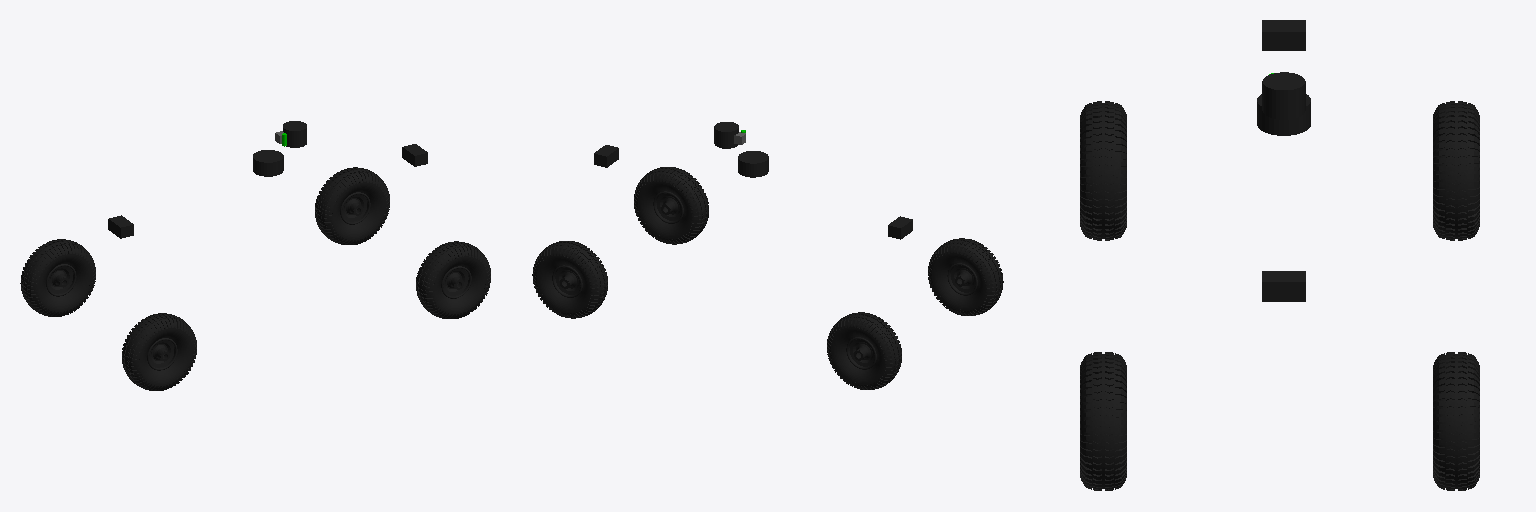
robot.urdf — teknofest_ika:
<?xml version="1.0"?>
<robot name="teknofest_ika">

  <material name="sari"><color rgba="1.0 0.76 0.03 1"/></material>
  <material name="siyah"><color rgba="0.15 0.15 0.15 1"/></material>
  <material name="blue"><color rgba="0.0 0.0 0.8 1"/></material>
  <material name="gri"><color rgba="0.4 0.4 0.4 1"/></material>
  <material name="yesil"><color rgba="0.0 0.8 0.0 1"/></material>

  <link name="base_footprint"/>

  <joint name="base_joint" type="fixed">
    <parent link="base_footprint"/>
    <child link="base_link"/>
    <origin xyz="0 0 0.28" rpy="0 0 0"/>
    <!--
      Z=0.28: tekerlek yarıçapı (0.18) + zemin boşluğu (0.10)
      Böylece tekerlekler tam yere oturur.
    -->
  </joint>

  <link name="base_link">
    <visual>
      <origin xyz="0 0 0" rpy="1.5708 0 0"/>
      <geometry>
        <mesh filename="package://teknofest_ika/meshes/govde.stl" scale="0.001 0.001 0.001"/>
      </geometry>
      <material name="blue"/>
    </visual>
    <collision>
      <origin xyz="0 0 0.05" rpy="0 0 0"/>
      <geometry>
        <box size="1.0 0.5 0.3"/>
      </geometry>
    </collision>
    <inertial>
      <mass value="70.0"/>
      <origin xyz="0 0 0" rpy="0 0 0"/>
      <inertia ixx="10.0" ixy="0" ixz="0" iyy="20.0" iyz="0" izz="30.0"/>
    </inertial>
  </link>

  <!-- ═══════════════════════════════════════════════
       SAĞ ÖN TEKERLEK
  ════════════════════════════════════════════════ -->
  <link name="sag_on_teker">
    <visual>
      <origin xyz="0 0 0" rpy="0 0 1.5708"/>
      <geometry>
        <mesh filename="package://teknofest_ika/meshes/tekerlek.stl" scale="0.001 0.001 0.001"/>
      </geometry>
      <material name="siyah"/>
    </visual>
    <collision>
      <origin xyz="0 0 0" rpy="1.5708 0 0"/>
      <geometry>
        <cylinder length="0.15" radius="0.18"/>
      </geometry>
    </collision>
    <inertial>
      <mass value="7.5"/>
      <origin xyz="0 0 0" rpy="1.5708 0 0"/>
      <inertia ixx="0.0563" ixy="0" ixz="0" iyy="0.0563" iyz="0" izz="0.1013"/>
    </inertial>
  </link>
  <joint name="sag_on_joint" type="continuous">
    <parent link="base_link"/>
    <child link="sag_on_teker"/>
    <origin xyz="0.50 -0.335 -0.10" rpy="0 0 0"/>
    <axis xyz="0 -1 0"/>
    <dynamics damping="0.5" friction="0.5"/>
  </joint>

  <!-- ═══════════════════════════════════════════════
       SOL ÖN TEKERLEK
  ════════════════════════════════════════════════ -->
  <link name="sol_on_teker">
    <visual>
      <origin xyz="0 0 0" rpy="0 0 -1.5708"/>
      <geometry>
        <mesh filename="package://teknofest_ika/meshes/tekerlek.stl" scale="0.001 0.001 0.001"/>
      </geometry>
      <material name="siyah"/>
    </visual>
    <collision>
      <origin xyz="0 0 0" rpy="1.5708 0 0"/>
      <geometry>
        <cylinder length="0.15" radius="0.18"/>
      </geometry>
    </collision>
    <inertial>
      <mass value="7.5"/>
      <origin xyz="0 0 0" rpy="1.5708 0 0"/>
      <inertia ixx="0.0563" ixy="0" ixz="0" iyy="0.0563" iyz="0" izz="0.1013"/>
    </inertial>
  </link>
  <joint name="sol_on_joint" type="continuous">
    <parent link="base_link"/>
    <child link="sol_on_teker"/>
    <origin xyz="0.50 0.320 -0.10" rpy="0 0 0"/>
    <axis xyz="0 -1 0"/>
    <dynamics damping="0.5" friction="0.5"/>
  </joint>

  <!-- ═══════════════════════════════════════════════
       SOL ARKA TEKERLEK
  ════════════════════════════════════════════════ -->
  <link name="sol_arka_teker">
    <visual>
      <origin xyz="0 0 0" rpy="0 0 -1.5708"/>
      <geometry>
        <mesh filename="package://teknofest_ika/meshes/tekerlek.stl" scale="0.001 0.001 0.001"/>
      </geometry>
      <material name="siyah"/>
    </visual>
    <collision>
      <origin xyz="0 0 0" rpy="1.5708 0 0"/>
      <geometry>
        <cylinder length="0.15" radius="0.18"/>
      </geometry>
    </collision>
    <inertial>
      <mass value="7.5"/>
      <origin xyz="0 0 0" rpy="1.5708 0 0"/>
      <inertia ixx="0.0563" ixy="0" ixz="0" iyy="0.0563" iyz="0" izz="0.1013"/>
    </inertial>
  </link>
  <joint name="sol_arka_joint" type="continuous">
    <parent link="base_link"/>
    <child link="sol_arka_teker"/>
    <origin xyz="-0.60 0.320 -0.10" rpy="0 0 0"/>
    <axis xyz="0 -1 0"/>
    <dynamics damping="0.5" friction="0.5"/>
  </joint>

  <!-- ═══════════════════════════════════════════════
       SAĞ ARKA TEKERLEK
  ════════════════════════════════════════════════ -->
  <link name="sag_arka_teker">
    <visual>
      <origin xyz="0 0 0" rpy="0 0 1.5708"/>
      <geometry>
        <mesh filename="package://teknofest_ika/meshes/tekerlek.stl" scale="0.001 0.001 0.001"/>
      </geometry>
      <material name="siyah"/>
    </visual>
    <collision>
      <origin xyz="0 0 0" rpy="1.5708 0 0"/>
      <geometry>
        <cylinder length="0.15" radius="0.18"/>
      </geometry>
    </collision>
    <inertial>
      <mass value="7.5"/>
      <origin xyz="0 0 0" rpy="1.5708 0 0"/>
      <inertia ixx="0.0563" ixy="0" ixz="0" iyy="0.0563" iyz="0" izz="0.1013"/>
    </inertial>
  </link>
  <joint name="sag_arka_joint" type="continuous">
    <parent link="base_link"/>
    <child link="sag_arka_teker"/>
    <origin xyz="-0.60 -0.335 -0.10" rpy="0 0 0"/>
    <axis xyz="0 -1 0"/>
    <dynamics damping="0.5" friction="0.5"/>
  </joint>

  <!-- ═══════════════════════════════════════════════
       DIFF DRIVE PLUGIN
       wheel_separation = 0.335 * 2 = 0.670
       wheel_diameter   = 0.18  * 2 = 0.360
  ════════════════════════════════════════════════ -->
  <gazebo>
    <plugin name="diff_drive" filename="libgazebo_ros_diff_drive.so">
      <ros><namespace>/</namespace></ros>
      <update_rate>50</update_rate>
      <num_wheel_pairs>2</num_wheel_pairs>
      <left_joint>sol_on_joint</left_joint>
      <right_joint>sag_on_joint</right_joint>
      <left_joint>sol_arka_joint</left_joint>
      <right_joint>sag_arka_joint</right_joint>
      <wheel_separation>0.670</wheel_separation>
      <wheel_diameter>0.360</wheel_diameter>
      <max_wheel_torque>200</max_wheel_torque>
      <max_wheel_acceleration>3.0</max_wheel_acceleration>
      <publish_odom>true</publish_odom>
      <publish_odom_tf>false</publish_odom_tf>
      <robot_base_frame>base_footprint</robot_base_frame>
    </plugin>
  </gazebo>

  <!-- ═══════════════════════════════════════════════
       LİDAR LİNKİ — YDLidar Tmini Pro (2D)
       Araç üst orta — /scan topic
  ════════════════════════════════════════════════ -->
  <link name="lidar_link">
    <visual>
      <origin xyz="0 0 0" rpy="0 0 0"/>
      <geometry><cylinder length="0.05" radius="0.05"/></geometry>
      <material name="siyah"/>
    </visual>
    <inertial>
      <mass value="0.1"/>
      <inertia ixx="0.001" ixy="0" ixz="0" iyy="0.001" iyz="0" izz="0.001"/>
    </inertial>
  </link>
  <joint name="lidar_joint" type="fixed">
    <parent link="base_link"/>
    <child link="lidar_link"/>
    <origin xyz="0.0 0 0.30" rpy="0 0 0"/>
  </joint>

  <gazebo reference="lidar_link">
    <sensor type="ray" name="lidar_sensor">
      <pose>0 0 0 0 0 0</pose>
      <visualize>true</visualize>
      <update_rate>10</update_rate>
      <ray>
        <scan>
          <horizontal>
            <samples>360</samples>
            <resolution>1</resolution>
            <min_angle>-3.14159</min_angle>
            <max_angle>3.14159</max_angle>
          </horizontal>
        </scan>
        <range>
          <min>0.10</min>
          <max>30.0</max>
          <resolution>0.01</resolution>
        </range>
      </ray>
      <plugin name="lidar_plugin" filename="libgazebo_ros_ray_sensor.so">
        <ros>
          <remapping>~/out:=/scan</remapping>
        </ros>
        <output_type>sensor_msgs/LaserScan</output_type>
        <frame_name>lidar_link</frame_name>
      </plugin>
    </sensor>
  </gazebo>

  <!-- ═══════════════════════════════════════════════
       OS30A LİNKİ — YDLidar OS30A (3D LiDAR)
       Malzeme listesi: "engel sakınma kabiliyetini artırma"
       Tmini Pro'nun 5cm önüne, aynı yüksekliğe monteli
       /os30a/points → PointCloud2
  ════════════════════════════════════════════════ -->
  <link name="os30a_link">
    <visual>
      <origin xyz="0 0 0" rpy="0 0 0"/>
      <geometry><cylinder length="0.06" radius="0.04"/></geometry>
      <material name="siyah"/>
    </visual>
    <inertial>
      <mass value="0.15"/>
      <inertia ixx="0.001" ixy="0" ixz="0" iyy="0.001" iyz="0" izz="0.001"/>
    </inertial>
  </link>
  <joint name="os30a_joint" type="fixed">
    <parent link="base_link"/>
    <child link="os30a_link"/>
    <!--
      X: +0.10  → Tmini Pro'dan (x=0.0) hafif öne
      Z: +0.38  → 2D lidar'dan (z=0.30) 8cm yukarı, gövde üstünde
    -->
    <origin xyz="0.10 0 0.38" rpy="0 0 0"/>
  </joint>

  <gazebo reference="os30a_link">
    <!--
      YDLidar OS30A: 32 kanal, ±15° dikey FoV, 360° yatay
      Gazebo Classic "ray" sensor ile 32-layer simülasyonu:
      vertical samples = 32 → her 0.9375° bir ring
    -->
    <sensor type="ray" name="os30a_sensor">
      <pose>0 0 0 0 0 0</pose>
      <visualize>false</visualize>
      <update_rate>10</update_rate>
      <ray>
        <scan>
          <horizontal>
            <samples>360</samples>
            <resolution>1</resolution>
            <min_angle>-3.14159</min_angle>
            <max_angle>3.14159</max_angle>
          </horizontal>
          <vertical>
            <!-- 32 kanal, ±15° dikey açı aralığı -->
            <samples>32</samples>
            <resolution>1</resolution>
            <min_angle>-0.26180</min_angle>  <!-- -15° -->
            <max_angle>0.26180</max_angle>   <!-- +15° -->
          </vertical>
        </scan>
        <range>
          <min>0.20</min>
          <max>30.0</max>
          <resolution>0.02</resolution>
        </range>
        <noise>
          <type>gaussian</type>
          <mean>0.0</mean>
          <stddev>0.01</stddev>
        </noise>
      </ray>
      <plugin name="os30a_plugin" filename="libgazebo_ros_ray_sensor.so">
        <ros>
          <remapping>~/out:=/os30a/points</remapping>
        </ros>
        <output_type>sensor_msgs/PointCloud2</output_type>
        <frame_name>os30a_link</frame_name>
      </plugin>
    </sensor>
  </gazebo>

  <!-- ═══════════════════════════════════════════════
       IMU LİNKİ — MPU9250
       Gövde merkezinde, /imu/data
  ════════════════════════════════════════════════ -->
  <link name="imu_link">
    <inertial>
      <mass value="0.01"/>
      <inertia ixx="0.0001" ixy="0" ixz="0" iyy="0.0001" iyz="0" izz="0.0001"/>
    </inertial>
  </link>
  <joint name="imu_joint" type="fixed">
    <parent link="base_link"/>
    <child link="imu_link"/>
    <origin xyz="0 0 0" rpy="0 0 0"/>
  </joint>

  <gazebo reference="imu_link">
    <sensor type="imu" name="imu_sensor">
      <update_rate>100</update_rate>
      <plugin name="imu_plugin" filename="libgazebo_ros_imu_sensor.so">
        <ros>
          <remapping>~/out:=/imu/data</remapping>
        </ros>
        <initial_orientation_as_reference>false</initial_orientation_as_reference>
      </plugin>
    </sensor>
  </gazebo>

  <!-- ═══════════════════════════════════════════════
       KAMERA 1: İLERİ SÜRÜŞ KAMERASI
       Microcase 720P Webcam — §6.12 zorunlu
       Araç ön paneli, merkez üst
       /ileri_kamera/image_raw
  ════════════════════════════════════════════════ -->
  <link name="kamera_link">
    <visual>
      <origin xyz="0 0 0" rpy="0 0 0"/>
      <geometry><box size="0.05 0.08 0.04"/></geometry>
      <material name="siyah"/>
    </visual>
    <inertial>
      <mass value="0.05"/>
      <inertia ixx="0.0001" ixy="0" ixz="0" iyy="0.0001" iyz="0" izz="0.0001"/>
    </inertial>
  </link>
  <joint name="kamera_joint" type="fixed">
    <parent link="base_link"/>
    <child link="kamera_link"/>
    <!-- Araç gövdesi collision box ön yüzü x=+0.5, kamera bunun 5cm önünde -->
    <origin xyz="0.55 0.0 0.20" rpy="0 0 0"/>
  </joint>

  <gazebo reference="kamera_link">
    <sensor type="camera" name="ileri_kamera_sensor">
      <update_rate>30</update_rate>
      <camera name="ileri_kamera">
        <!-- 720P Webcam yaklaşık 80° HFoV -->
        <horizontal_fov>1.3962634</horizontal_fov>
        <image>
          <width>1280</width>
          <height>720</height>
          <format>R8G8B8</format>
        </image>
        <clip><near>0.02</near><far>50.0</far></clip>
        <noise>
          <type>gaussian</type>
          <mean>0.0</mean>
          <stddev>0.007</stddev>
        </noise>
      </camera>
      <plugin name="ileri_kamera_plugin" filename="libgazebo_ros_camera.so">
        <ros>
          <remapping>~/image_raw:=/ileri_kamera/image_raw</remapping>
          <remapping>~/camera_info:=/ileri_kamera/camera_info</remapping>
        </ros>
        <camera_name>ileri_kamera</camera_name>
        <frame_name>kamera_link</frame_name>
        <hack_baseline>0.0</hack_baseline>
      </plugin>
    </sensor>
  </gazebo>

  <!-- ═══════════════════════════════════════════════
       KAMERA 2: GERİ SÜRÜŞ KAMERASI
       Microcase 720P Webcam — §6.12 zorunlu
       Araç arka paneli, yaw=π ile arkaya bakar
       /geri_kamera/image_raw
  ════════════════════════════════════════════════ -->
  <link name="geri_kamera_link">
    <visual>
      <origin xyz="0 0 0" rpy="0 0 0"/>
      <geometry><box size="0.05 0.08 0.04"/></geometry>
      <material name="siyah"/>
    </visual>
    <inertial>
      <mass value="0.05"/>
      <inertia ixx="0.0001" ixy="0" ixz="0" iyy="0.0001" iyz="0" izz="0.0001"/>
    </inertial>
  </link>
  <joint name="geri_kamera_joint" type="fixed">
    <parent link="base_link"/>
    <child link="geri_kamera_link"/>
    <!-- Araç arka yüzü x=-0.5, kamera 5cm dışarıda; yaw=π → -X yönüne bakar -->
    <origin xyz="-0.55 0.0 0.20" rpy="0 0 3.14159"/>
  </joint>

  <gazebo reference="geri_kamera_link">
    <sensor type="camera" name="geri_kamera_sensor">
      <update_rate>30</update_rate>
      <camera name="geri_kamera">
        <horizontal_fov>1.3962634</horizontal_fov>
        <image>
          <width>1280</width>
          <height>720</height>
          <format>R8G8B8</format>
        </image>
        <clip><near>0.02</near><far>50.0</far></clip>
        <noise>
          <type>gaussian</type>
          <mean>0.0</mean>
          <stddev>0.007</stddev>
        </noise>
      </camera>
      <plugin name="geri_kamera_plugin" filename="libgazebo_ros_camera.so">
        <ros>
          <remapping>~/image_raw:=/geri_kamera/image_raw</remapping>
          <remapping>~/camera_info:=/geri_kamera/camera_info</remapping>
        </ros>
        <camera_name>geri_kamera</camera_name>
        <frame_name>geri_kamera_link</frame_name>
        <hack_baseline>0.0</hack_baseline>
      </plugin>
    </sensor>
  </gazebo>

  <!-- ═══════════════════════════════════════════════
       KAMERA 3: NİŞAN KAMERASI — IMX258 OIS
       Pan-tilt taret üzerinde, araç üst merkezi
       HFoV = 2·arctan(4.60/(2·3.67)) ≈ 68.1° = 1.189 rad
       /nisan_kamera/image_raw
  ════════════════════════════════════════════════ -->
  <link name="nisan_kamera_link">
    <visual>
      <origin xyz="0 0 0" rpy="0 0 0"/>
      <geometry><box size="0.03 0.03 0.03"/></geometry>
      <material name="gri"/>
    </visual>
    <inertial>
      <mass value="0.02"/>
      <inertia ixx="0.00001" ixy="0" ixz="0" iyy="0.00001" iyz="0" izz="0.00001"/>
    </inertial>
  </link>
  <joint name="nisan_kamera_joint" type="fixed">
    <parent link="base_link"/>
    <child link="nisan_kamera_link"/>
    <!--
      Pan-tilt taret konumu: gövde üstü merkezi
      Gerçek sistemde bu joint revolute (servo) olacak.
      Simülasyonda fixed → şartname §6.12 karşılıyor.
    -->
    <origin xyz="0.05 0.0 0.38" rpy="0 0 0"/>
  </joint>

  <gazebo reference="nisan_kamera_link">
    <sensor type="camera" name="nisan_kamera_sensor">
      <update_rate>30</update_rate>
      <camera name="nisan_kamera">
        <!-- IMX258 OIS: f=3.67mm, sensor=4.60mm → HFoV≈68.1° = 1.1886 rad -->
        <horizontal_fov>1.1886</horizontal_fov>
        <image>
          <!-- IMX258 native: 4208×3120, simülasyonda 1080p yeterli -->
          <width>1920</width>
          <height>1080</height>
          <format>R8G8B8</format>
        </image>
        <clip><near>0.10</near><far>100.0</far></clip>
        <noise>
          <type>gaussian</type>
          <mean>0.0</mean>
          <stddev>0.003</stddev>
        </noise>
      </camera>
      <plugin name="nisan_kamera_plugin" filename="libgazebo_ros_camera.so">
        <ros>
          <remapping>~/image_raw:=/nisan_kamera/image_raw</remapping>
          <remapping>~/camera_info:=/nisan_kamera/camera_info</remapping>
        </ros>
        <camera_name>nisan_kamera</camera_name>
        <frame_name>nisan_kamera_link</frame_name>
        <hack_baseline>0.0</hack_baseline>
      </plugin>
    </sensor>
  </gazebo>

  <!-- ═══════════════════════════════════════════════
       LAZER İŞARETLEYİCİ — 520nm 5mW Yeşil Nokta Lazer
       Malzeme: "520nm 5mW 3-5V Yeşil Nokta Lazer Modülü x2"
       Şartname §6.12: "lazer işaretleyici bulunması zorunludur"
       Nişan kamerası ile aynı taret üzerinde, 2cm yana ofset
       Gazebo'da Gazebo'da aktif lazer ışını simüle edilmez;
       link + TF tree varlığı şartname maddesini karşılar.
  ════════════════════════════════════════════════ -->
  <link name="lazer_link">
    <visual>
      <origin xyz="0 0 0" rpy="0 0 0"/>
      <geometry><cylinder length="0.04" radius="0.008"/></geometry>
      <material name="yesil"/>
    </visual>
    <inertial>
      <mass value="0.005"/>
      <inertia ixx="0.000001" ixy="0" ixz="0" iyy="0.000001" iyz="0" izz="0.000001"/>
    </inertial>
  </link>
  <joint name="lazer_joint" type="fixed">
    <parent link="nisan_kamera_link"/>
    <child link="lazer_link"/>
    <!-- Kameranın 2cm sağına, aynı yüksekliğe monte -->
    <origin xyz="0.0 -0.02 0.0" rpy="0 0 0"/>
  </joint>

</robot>

--- Render facts (derived) ---
Views: 3 orthographic renders of the robot side by side, from view 1: azimuth 30°, elevation 25°; view 2: azimuth 150°, elevation 25°; view 3: azimuth 270°, elevation 25°.
Robot: teknofest_ika — 13 links, 12 joints (4 continuous, 8 fixed); root link base_footprint; default pose: all joints at 0.
Visible links, largest first — view 1: sol_on_teker, sag_on_teker, sol_arka_teker, sag_arka_teker, lidar_link, os30a_link; view 2: sag_arka_teker, sag_on_teker, sol_on_teker, sol_arka_teker, lidar_link, os30a_link; view 3: sol_arka_teker, sag_arka_teker, sol_on_teker, sag_on_teker, os30a_link, kamera_link, geri_kamera_link, lidar_link.
Boxes of the visible links, box(x1,y1,x2,y2) form: sol_on_teker: box(315, 167, 389, 244); sag_on_teker: box(416, 241, 490, 318); sol_arka_teker: box(20, 239, 95, 316); sag_arka_teker: box(122, 313, 196, 390); lidar_link: box(253, 150, 283, 176); os30a_link: box(283, 121, 306, 147); sag_arka_teker: box(928, 238, 1003, 315); sag_on_teker: box(634, 167, 708, 244); sol_on_teker: box(532, 241, 607, 318); sol_arka_teker: box(827, 312, 901, 389); lidar_link: box(738, 151, 768, 177); os30a_link: box(714, 122, 738, 148); sol_arka_teker: box(1433, 101, 1479, 240); sag_arka_teker: box(1080, 101, 1126, 240); sol_on_teker: box(1433, 352, 1479, 490); sag_on_teker: box(1080, 352, 1126, 490); os30a_link: box(1262, 72, 1305, 119); kamera_link: box(1262, 271, 1305, 301); geri_kamera_link: box(1262, 20, 1305, 50); lidar_link: box(1257, 94, 1310, 135).
Bounding box of the posed robot: 1.36 × 0.7409 × 0.64 m (x, y, z).
Meshes: 2 distinct files referenced, 4 mesh visuals loaded (1 binary STL); not drawn: 1 (reference not matched to a file when rendering).
